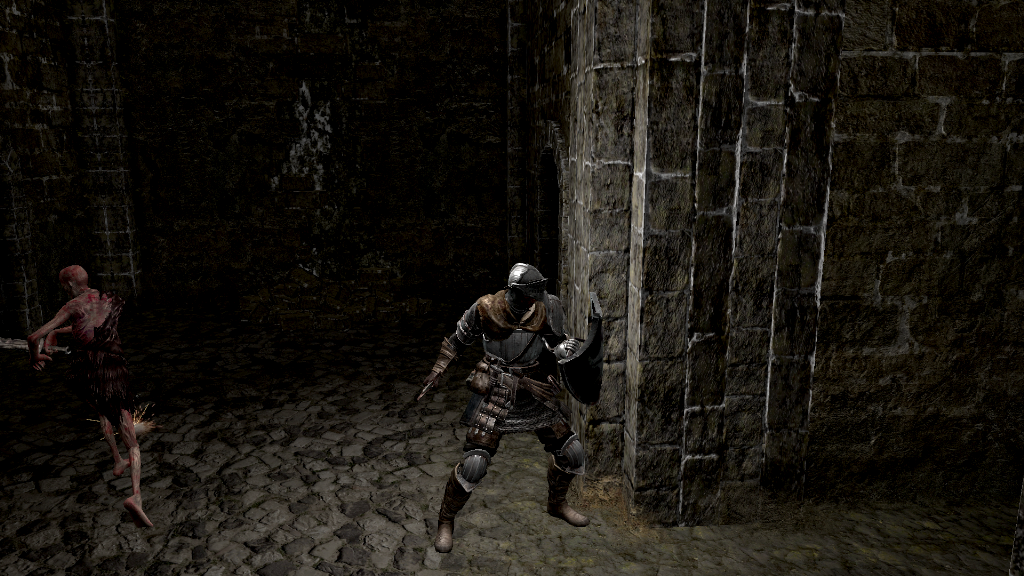hollow: (27, 265, 158, 529)
player: (414, 263, 606, 556)
